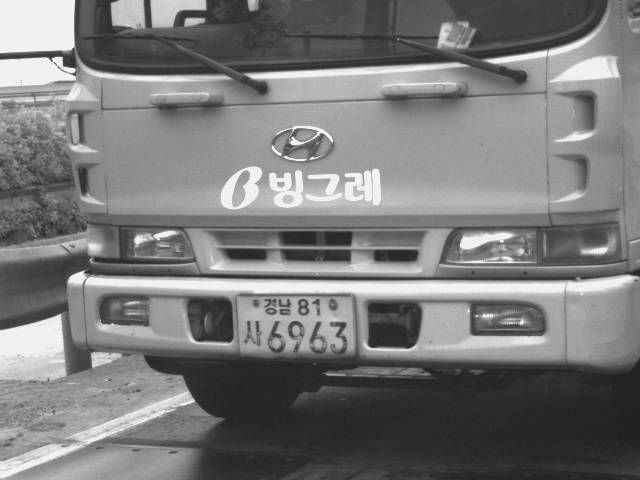car: (63, 1, 640, 429)
plate: (236, 295, 358, 359)
